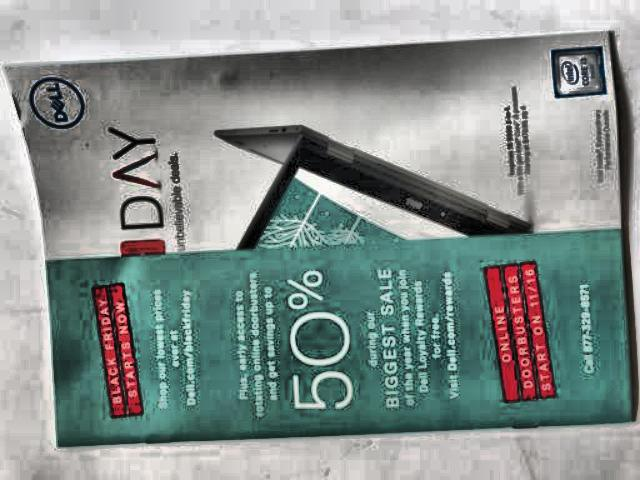Paper: (39, 116, 623, 448)
